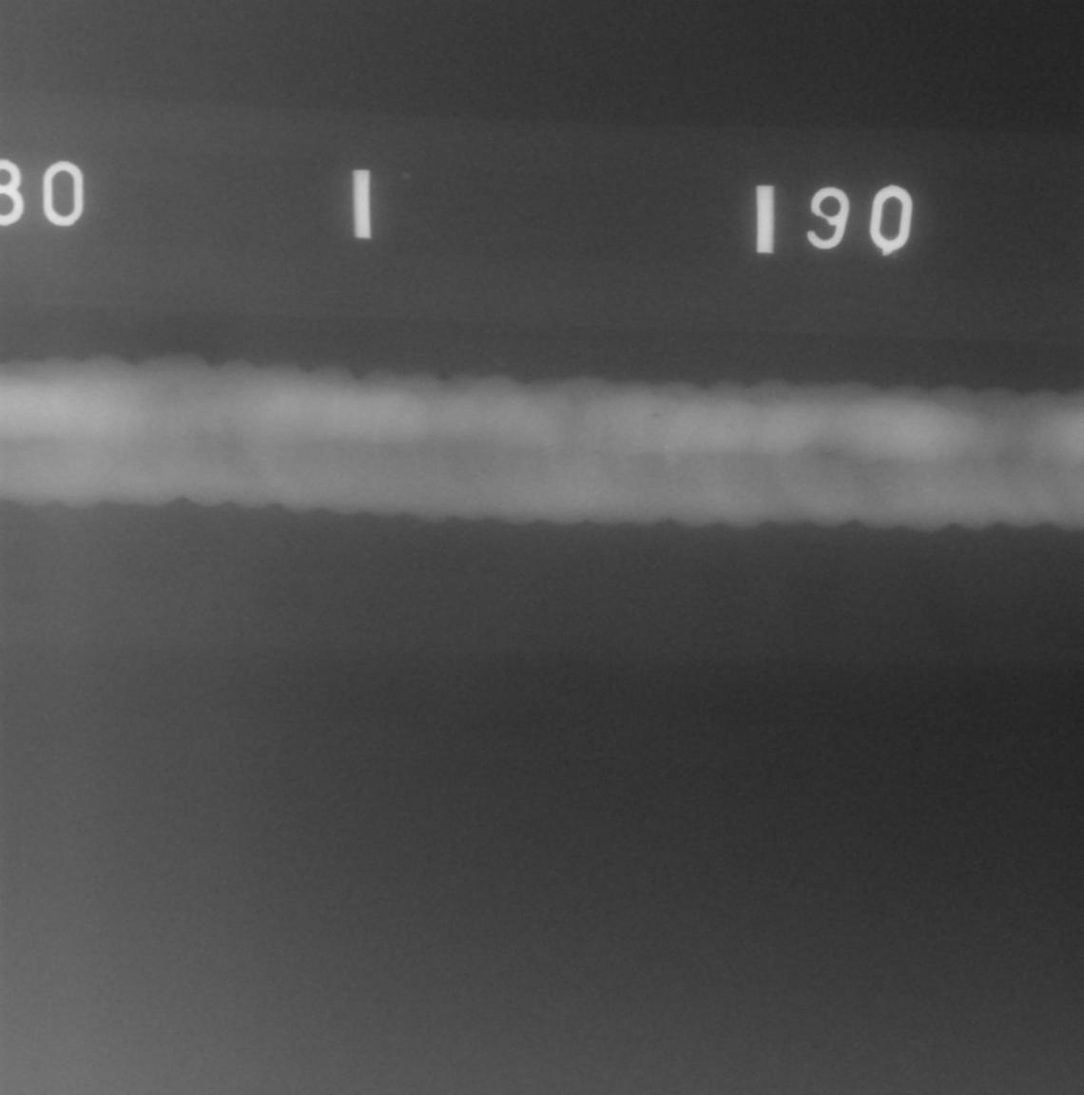Inclusion: (825, 452, 833, 456)
Pore/Porosity: (651, 412, 660, 418), (777, 421, 781, 424)
